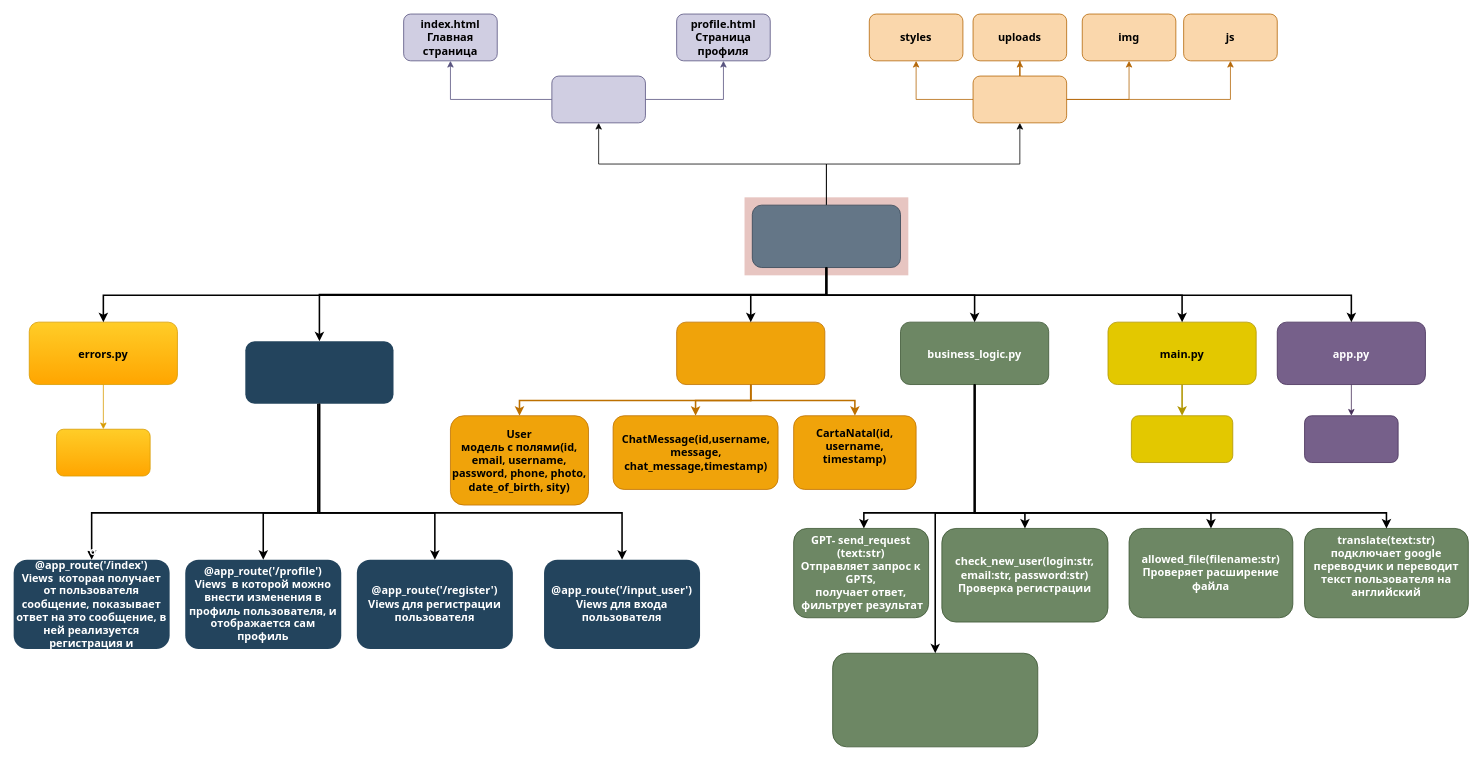
Image size: 1482x761. Some labels were removed from this diagram. Each missing label, with the centre of its shape:
"controller.py" belongs at point 319,372.
"count_request_day(count:int) считает количество запросов пользователя в дент" belongs at point 935,699.
"models.py" belongs at point 750,353.
"STAR_POWER" belongs at point 826,236.
"static" belongs at point 1019,99.
"templates" belongs at point 598,99.
"Запуск проекта" belongs at point 1182,439.
"Импорт основных модулей и их настройка" belongs at point 1351,439.
"Обработка всех возможных ошибок" belongs at point 103,452.
